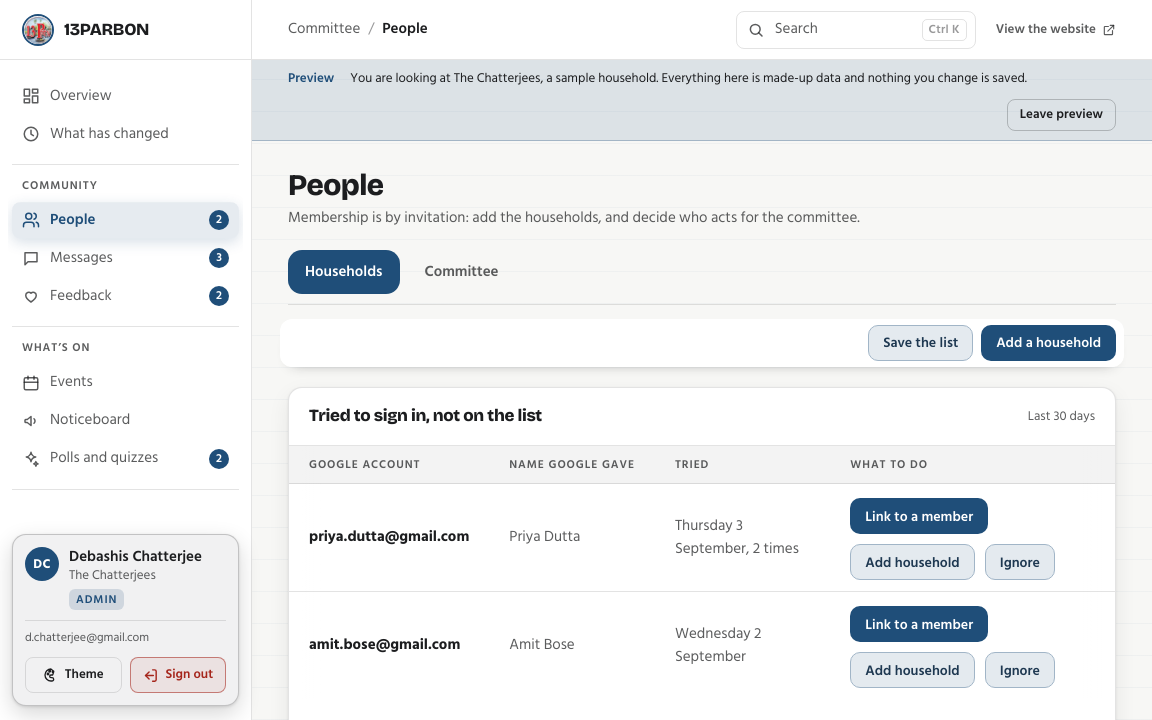
it: saving the list of households › asks first, and says it is a spreadsheet for Excel
Click the button "Save the list" at (921, 343), box [868, 325, 973, 361]
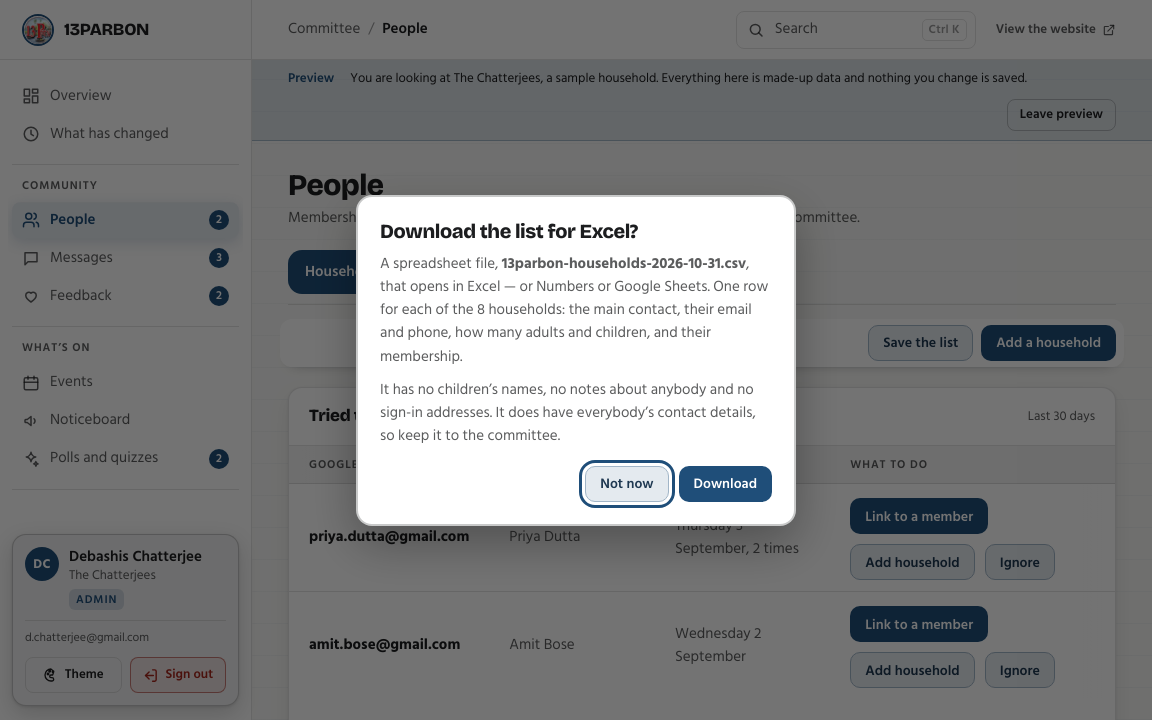
Check: the dialog "Download the list for Excel?" shows "opens in Excel", box [380, 250, 768, 322]
Check: the dialog "Download the list for Excel?" shows ".csv", box [502, 250, 746, 276]
Check: the dialog "Download the list for Excel?" shows "email and phone", box [380, 297, 752, 368]
